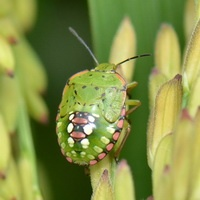insect: (56, 54, 148, 165)
